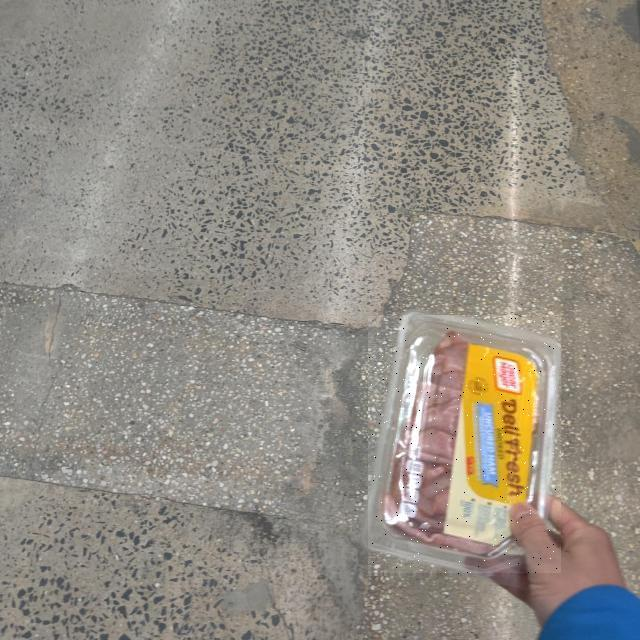Meat: (368, 316, 561, 576)
